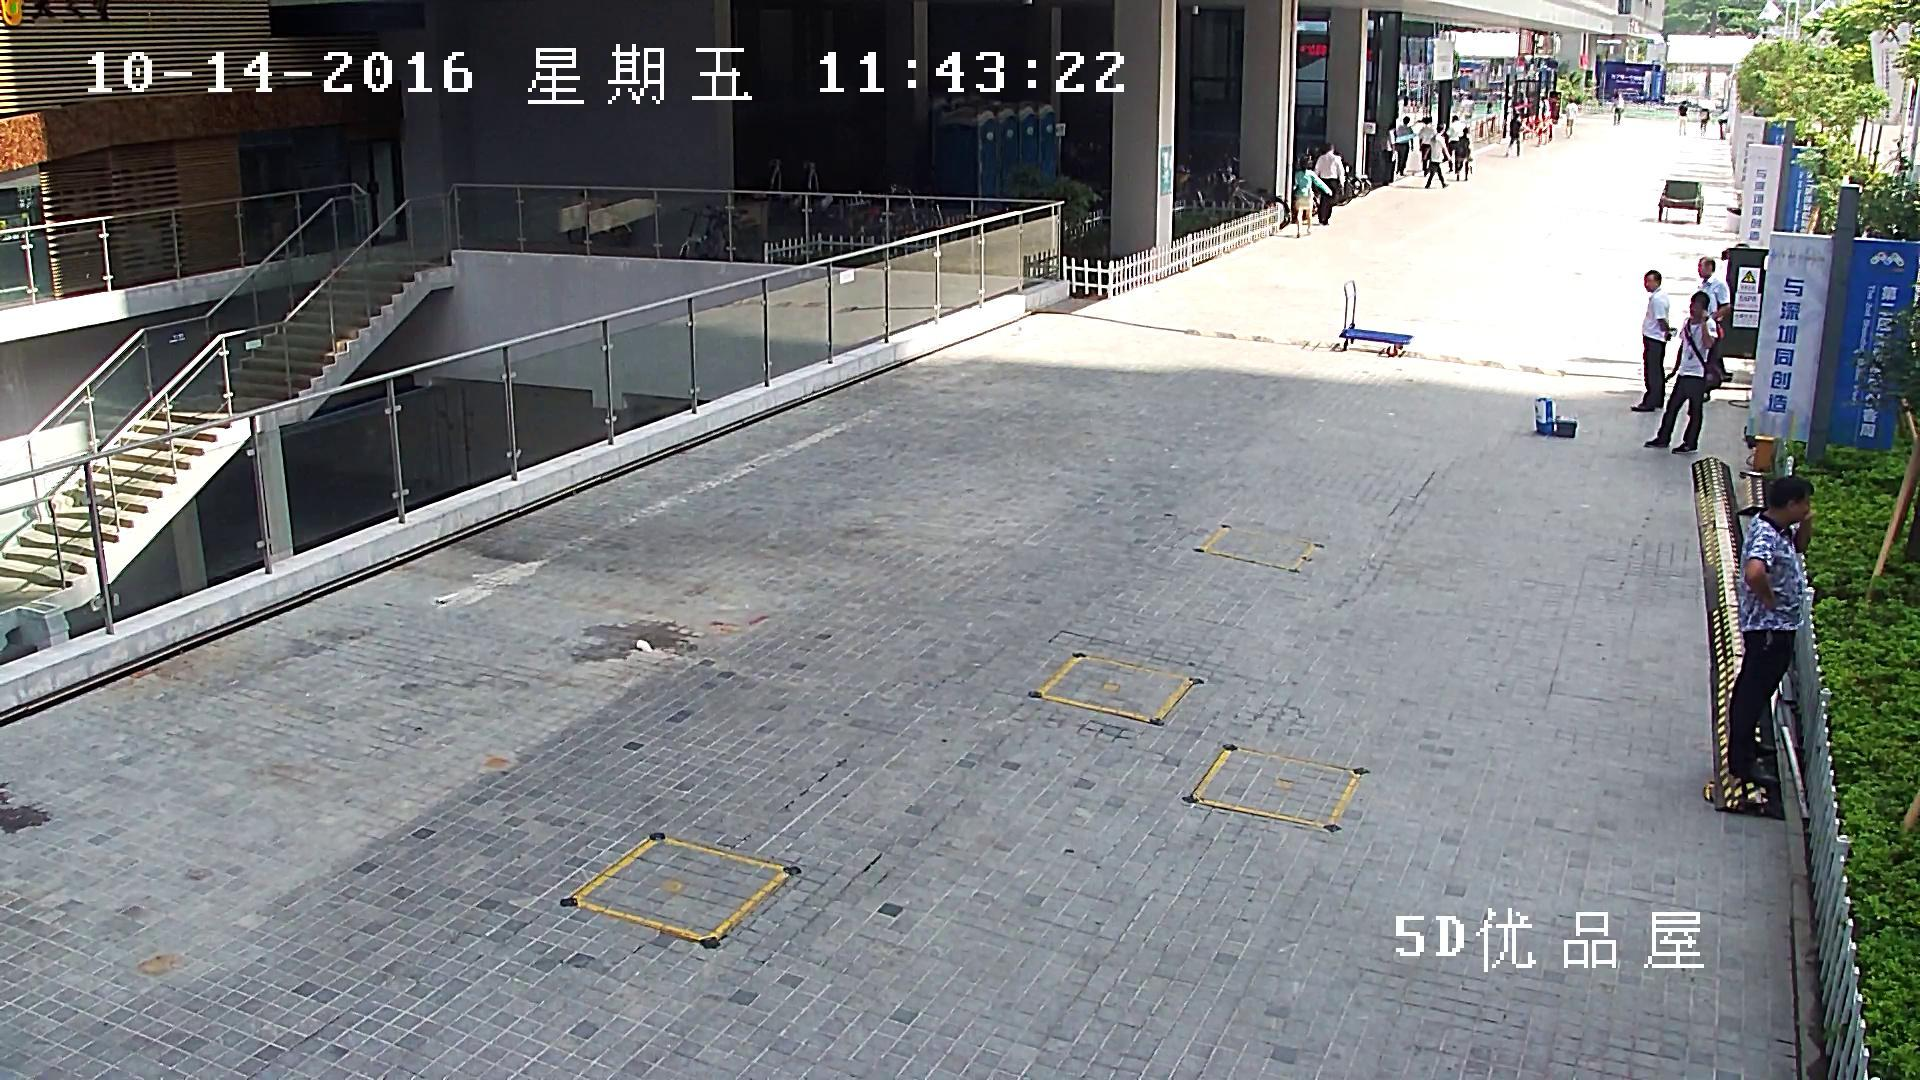person: (1728, 476, 1814, 790), (1644, 291, 1723, 454), (1630, 270, 1671, 412), (1696, 259, 1726, 379), (1293, 156, 1331, 238), (1315, 143, 1344, 225), (1425, 125, 1453, 189), (1396, 117, 1413, 176), (1418, 118, 1435, 175), (1455, 128, 1472, 181), (1446, 115, 1462, 172), (1383, 123, 1395, 182), (1505, 114, 1520, 157), (1697, 99, 1716, 136), (1565, 99, 1576, 138), (1718, 107, 1730, 139), (1614, 91, 1625, 124), (1678, 101, 1688, 135), (1700, 108, 1709, 135)
